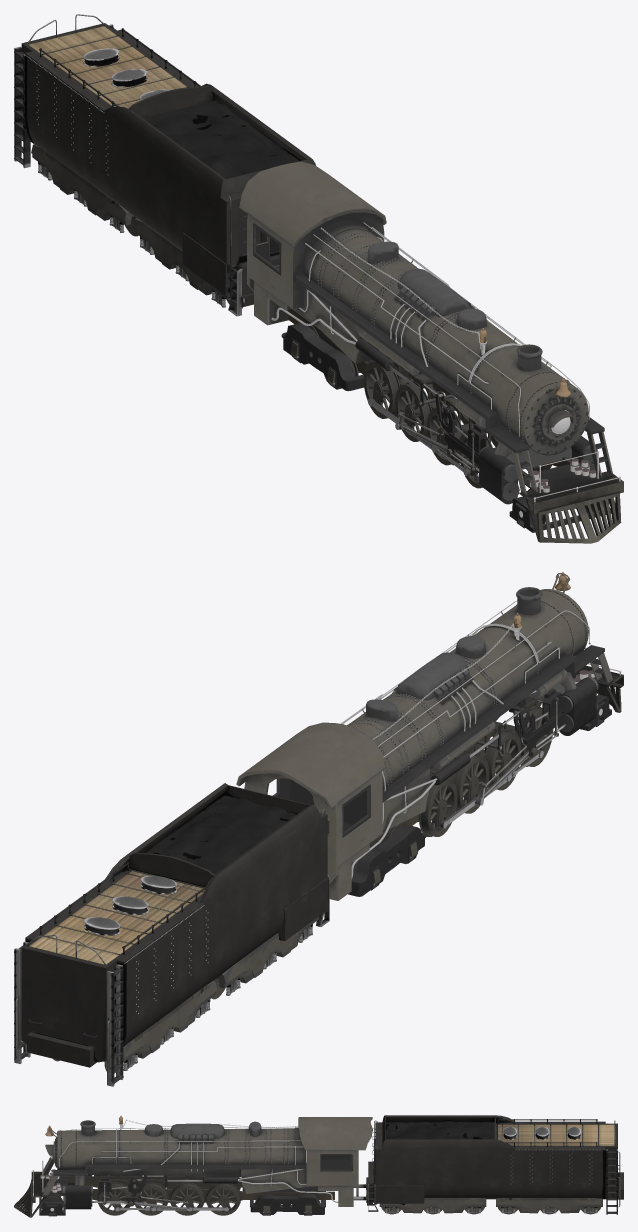
File: modelo.glb
The picture shows the model from 3 angles, top to bottom: view 1: azimuth 30°, elevation 25°; view 2: azimuth 150°, elevation 25°; view 3: azimuth 270°, elevation 25°; orthographic projection. The views are drawn at different scales.
Visible parts, largest first — view 1: CoalCarrage_CoalCarrageNew_0, FrontTop_MainNew_0, FrontWheels_WheelNew_0; view 2: CoalCarrage_CoalCarrageNew_0, FrontTop_MainNew_0, FrontWheels_WheelNew_0; view 3: CoalCarrage_CoalCarrageNew_0, FrontTop_MainNew_0, FrontWheels_WheelNew_0.
Boxes of the visible parts, <box> form: CoalCarrage_CoalCarrageNew_0: <box>14,14,315,316</box>; FrontTop_MainNew_0: <box>239,161,620,517</box>; FrontWheels_WheelNew_0: <box>281,308,623,543</box>; CoalCarrage_CoalCarrageNew_0: <box>14,783,329,1086</box>; FrontTop_MainNew_0: <box>236,572,621,900</box>; FrontWheels_WheelNew_0: <box>348,665,623,896</box>; CoalCarrage_CoalCarrageNew_0: <box>353,1115,623,1214</box>; FrontTop_MainNew_0: <box>32,1115,372,1211</box>; FrontWheels_WheelNew_0: <box>14,1171,334,1217</box>.
Size of the model in its own units: 0.5366 by 0.7801 by 4.95.
Materials: 3 (3 with a texture image).
